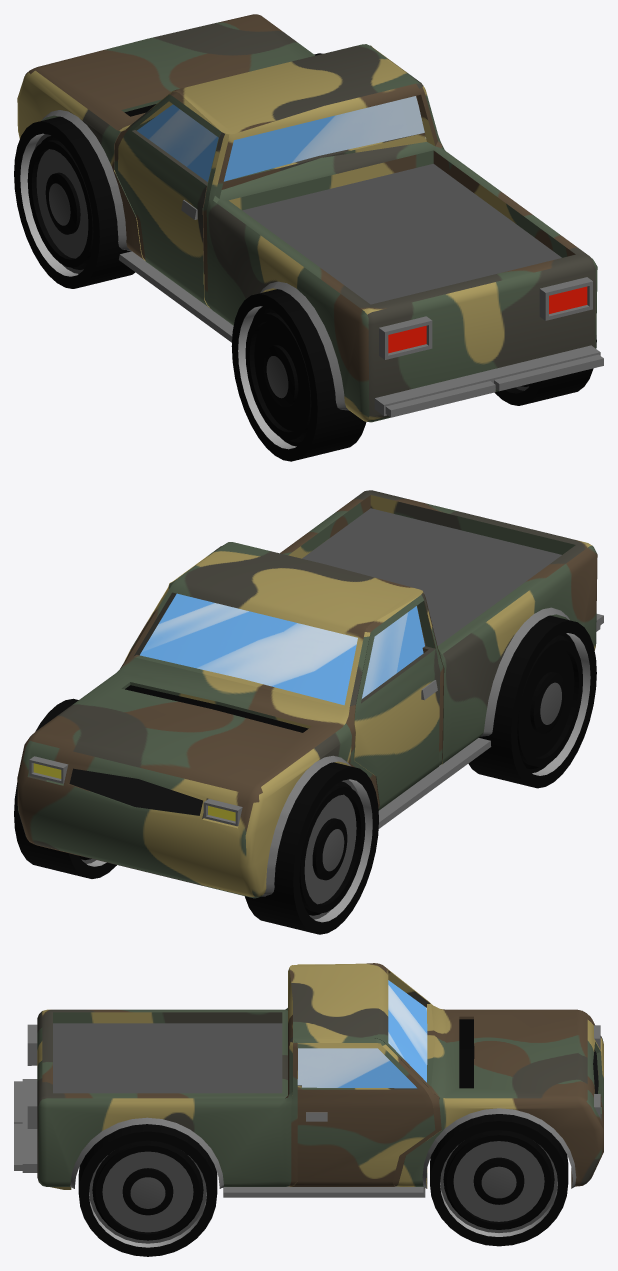
The model's file is truckfinal.fbx.
The picture shows the model from 3 angles, top to bottom: view 1: azimuth 30°, elevation 25°; view 2: azimuth 150°, elevation 25°; view 3: azimuth 270°, elevation 25°; orthographic projection. The views are drawn at different scales.
Visible parts, largest first — view 1: Cube.002, Cylinder.006, Cylinder.004, Cylinder.008; view 2: Cube.002, Cylinder.004, Cylinder.006, Cylinder.007; view 3: Cube.002, Cylinder.008, Cylinder.007.
Boxes of the visible parts, bbox=[...] form: Cube.002: bbox=[17, 14, 603, 422]; Cylinder.006: bbox=[231, 289, 366, 461]; Cylinder.004: bbox=[14, 116, 135, 288]; Cylinder.008: bbox=[494, 335, 596, 405]; Cube.002: bbox=[17, 490, 603, 898]; Cylinder.004: bbox=[244, 762, 378, 934]; Cylinder.006: bbox=[468, 615, 596, 788]; Cylinder.007: bbox=[14, 698, 116, 878]; Cube.002: bbox=[14, 963, 603, 1197]; Cylinder.008: bbox=[78, 1124, 217, 1256]; Cylinder.007: bbox=[430, 1114, 568, 1246].
Bounding box in the file's own units: 209 × 179 × 475.
Materials: 3 (3 with a texture image).
